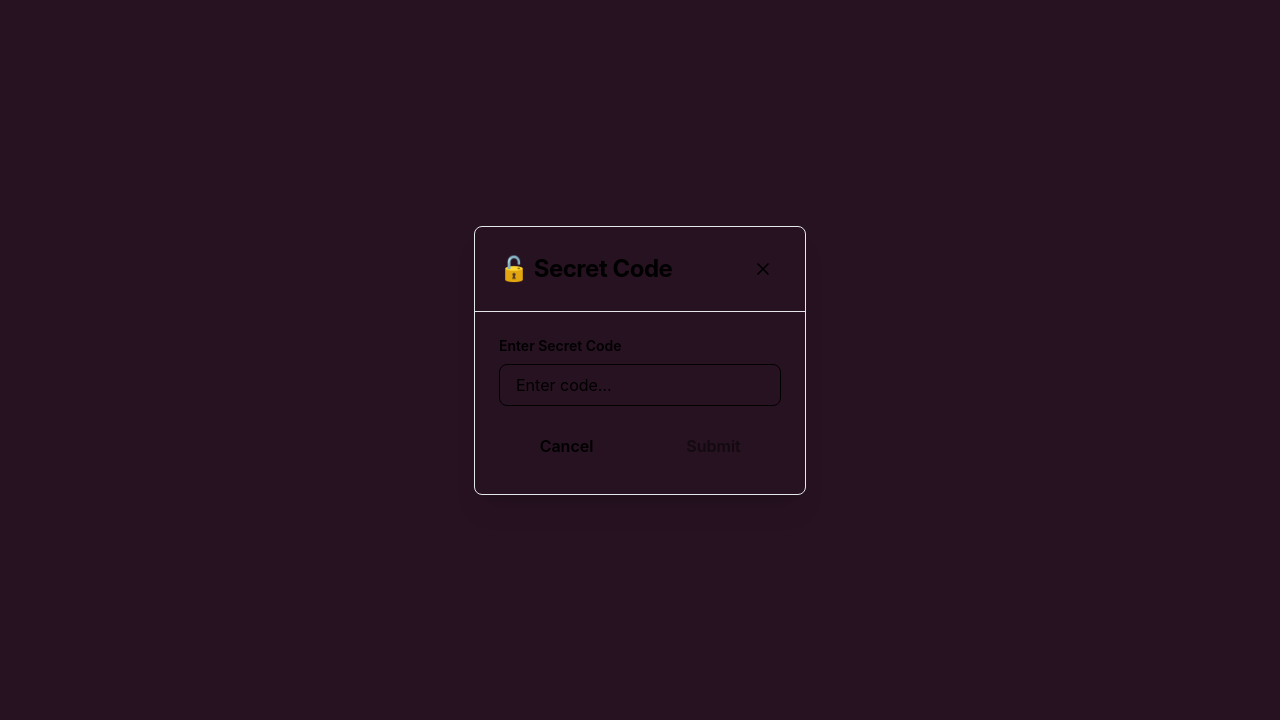
SecretCodeModal › is case insensitive
Step 1. Type "morefire" into the field with placeholder "Enter code..." → (640, 384), box [499,364,781,406]
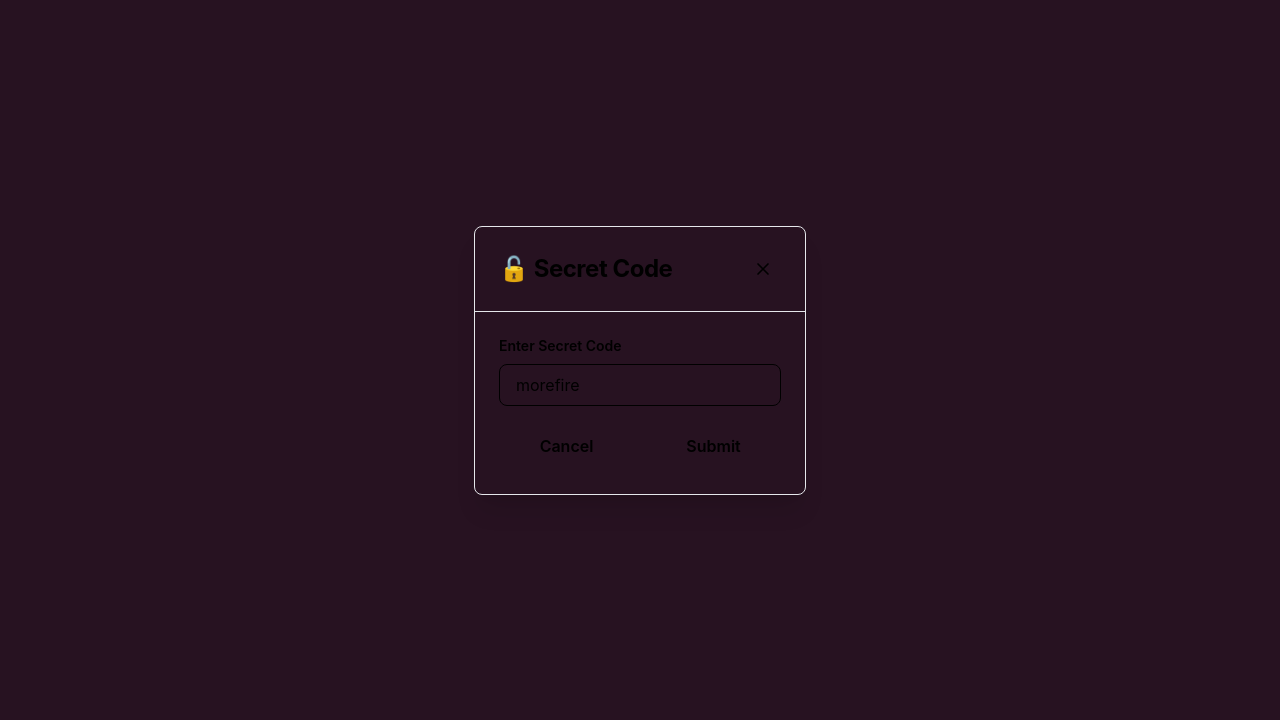
Step 2. Click the button "Submit" → (714, 446), box [646,422,781,470]
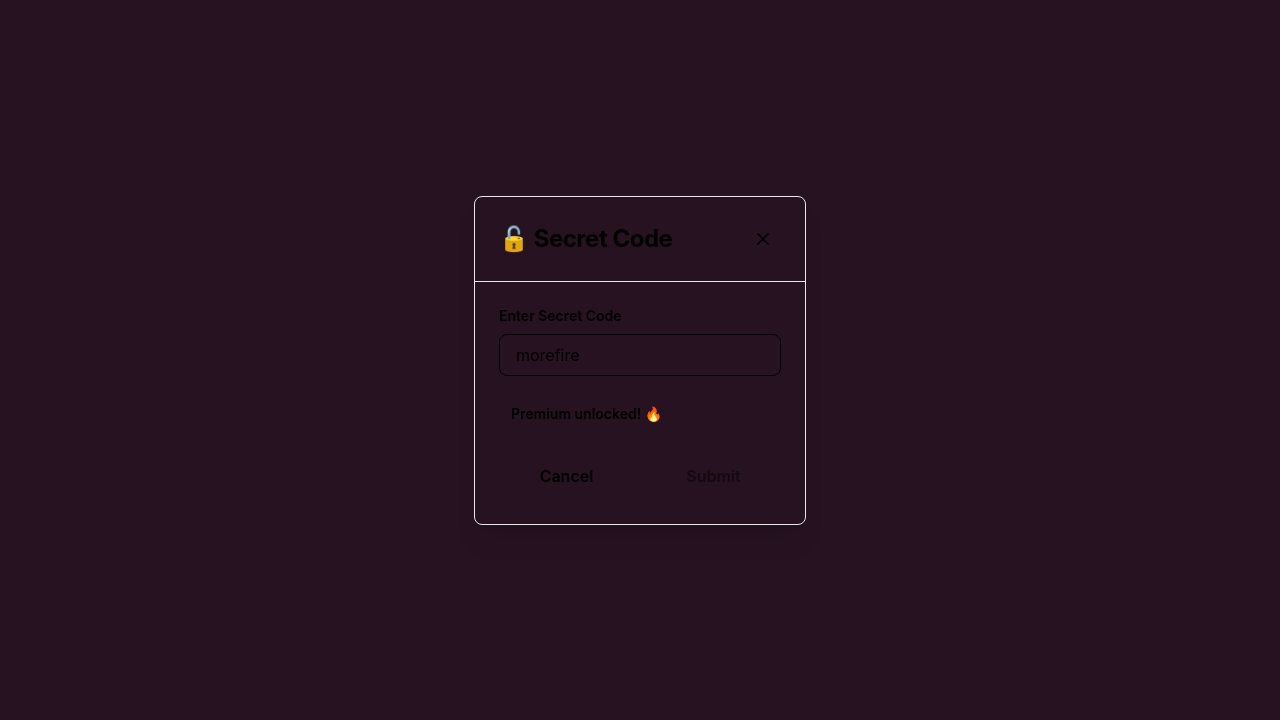
Result: the text "Premium unlocked! 🔥" is shown at [511,404,662,422]
